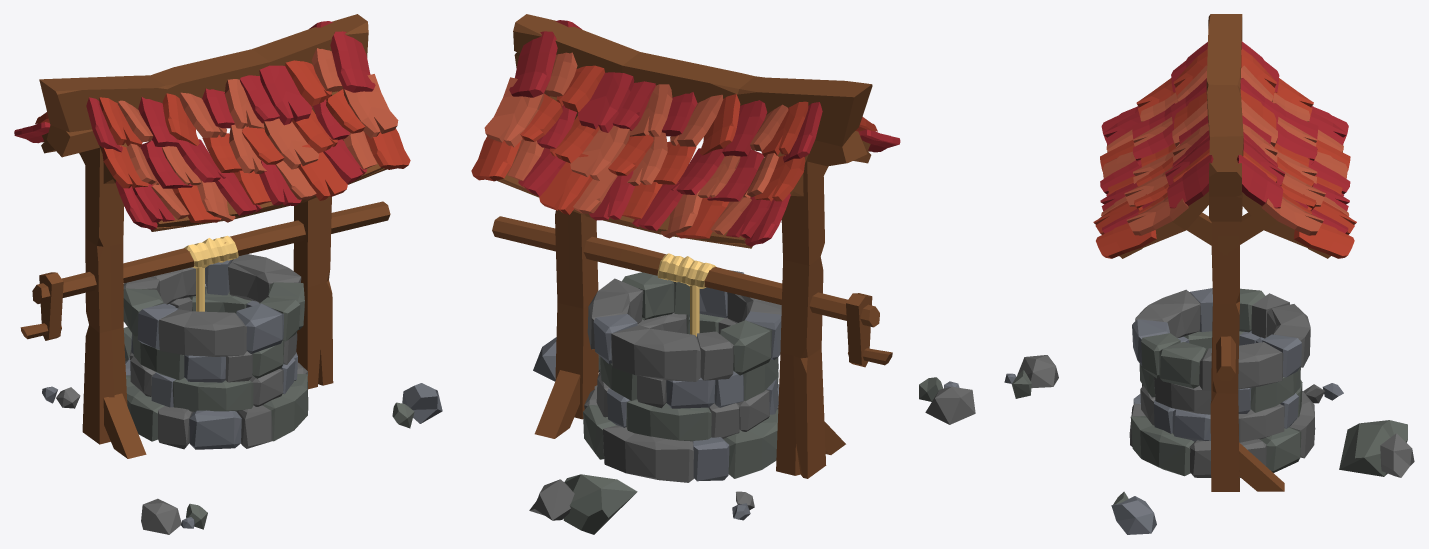
Rendered from LowPolyWellTutorial.fbx.
The picture shows the model from 3 angles, left to right: view 1: azimuth 30°, elevation 25°; view 2: azimuth 150°, elevation 25°; view 3: azimuth 270°, elevation 25°; orthographic projection. The views are drawn at different scales.
Parts seen in each view (by area): view 1: Cube.003, Cube.008, Cube.004, Cube.010, Cube, Cube.002, Cylinder, Cube.001, Cube.057, Cube.058, Cube.061, Cube.033 (+41 smaller); view 2: Cube.003, Cube.008, Cube.004, Cube.010, Cube, Cylinder, Cube.002, Cube.001, Icosphere.008, Cube.057, Cube.058, Cube.033 (+43 smaller); view 3: Cube.003, Cube.008, Cube, Cube.010, Cube.002, Cube.001, Cube.057, Cube.034, Icosphere.008, Cube.033, Cube.006, Cube.038 (+32 smaller).
Part boxes in pixels (bbox=[...]): Cube.003: bbox=[123, 254, 304, 356]; Cube.008: bbox=[39, 14, 368, 157]; Cube.004: bbox=[82, 147, 127, 444]; Cube.010: bbox=[125, 358, 308, 449]; Cube: bbox=[293, 106, 333, 389]; Cube.002: bbox=[131, 287, 297, 382]; Cylinder: bbox=[32, 201, 390, 303]; Cube.001: bbox=[129, 348, 297, 411]; Cube.057: bbox=[309, 21, 375, 92]; Cube.058: bbox=[259, 65, 312, 125]; Cube.061: bbox=[103, 393, 146, 458]; Cube.033: bbox=[343, 74, 398, 138]; Cube.003: bbox=[587, 270, 781, 381]; Cube.008: bbox=[513, 14, 872, 166]; Cube.004: bbox=[776, 161, 826, 478]; Cube.010: bbox=[583, 384, 779, 482]; Cube: bbox=[555, 112, 598, 419]; Cylinder: bbox=[492, 216, 879, 327]; Cube.002: bbox=[599, 312, 778, 408]; Cube.001: bbox=[596, 370, 778, 441]; Icosphere.008: bbox=[563, 474, 637, 534]; Cube.057: bbox=[509, 20, 582, 97]; Cube.058: bbox=[578, 72, 634, 132]; Cube.033: bbox=[484, 77, 544, 147]; Cube.003: bbox=[1132, 288, 1310, 390]; Cube.008: bbox=[1206, 14, 1243, 221]; Cube: bbox=[1210, 221, 1239, 491]; Cube.010: bbox=[1129, 391, 1315, 477]; Cube.002: bbox=[1139, 330, 1300, 414]; Cube.001: bbox=[1140, 380, 1302, 442]; Cube.057: bbox=[1167, 155, 1283, 208]; Cube.034: bbox=[1096, 223, 1354, 258]; Icosphere.008: bbox=[1339, 420, 1407, 476]; Cube.033: bbox=[1126, 197, 1323, 235]; Cube.006: bbox=[1142, 191, 1308, 247]; Cube.038: bbox=[1133, 123, 1317, 165].
Size of what is drawn, in the model's own units: 432 by 438 by 431.
